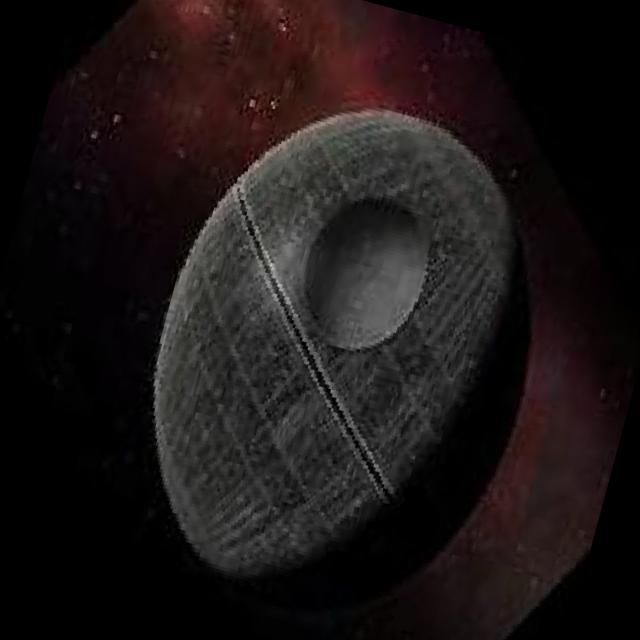Death Star: (108, 64, 612, 640)
